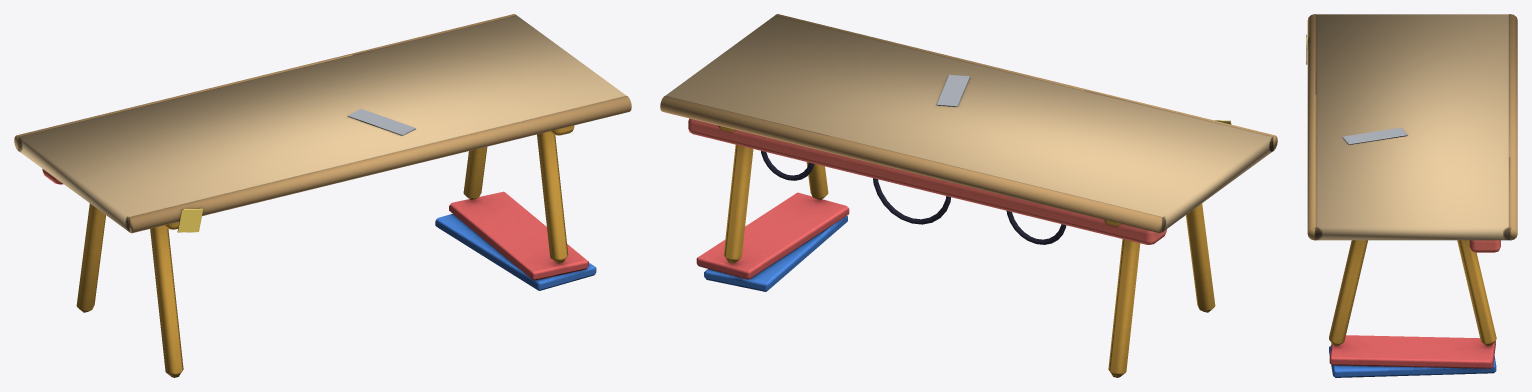
File: intern_bench.glb
3 renders of one model, left to right at view 1: azimuth 30°, elevation 25°; view 2: azimuth 150°, elevation 25°; view 3: azimuth 270°, elevation 25°, orthographic. The views are drawn at different scales.
Parts seen in each view (by area): view 1: intern_bench; view 2: intern_bench; view 3: intern_bench.
Boxes of the visible parts, x1,y1,x2,y2 form: intern_bench: (14, 14, 631, 377); intern_bench: (660, 14, 1277, 377); intern_bench: (1306, 14, 1517, 377).
Size of the model in its own units: 1.6 by 0.564 by 0.6715.
Materials: 9 (9 with a texture image).
